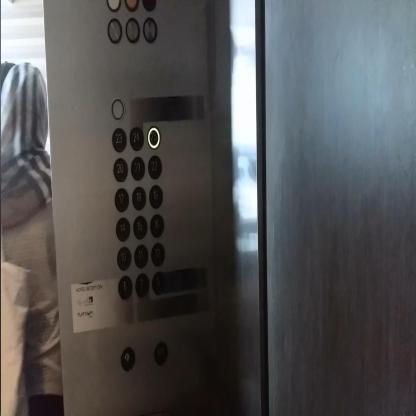10: (116, 245, 132, 272)
11: (133, 242, 149, 270)
12: (150, 242, 166, 269)
14: (114, 216, 131, 244)
15: (132, 213, 147, 240)
16: (149, 212, 165, 239)
17: (113, 186, 130, 213)
18: (130, 184, 146, 212)
19: (148, 183, 164, 210)
20: (112, 156, 128, 184)
21: (130, 155, 146, 182)
22: (146, 152, 162, 180)
23: (111, 126, 127, 153)
24: (128, 124, 145, 152)
25: (146, 124, 161, 152)
6: (116, 274, 132, 302)
7: (134, 270, 150, 299)
9: (150, 271, 166, 295)
close: (153, 339, 169, 367)
empty: (142, 15, 158, 43), (124, 16, 140, 43), (107, 15, 122, 43), (110, 96, 125, 122)
open: (120, 345, 136, 373)
